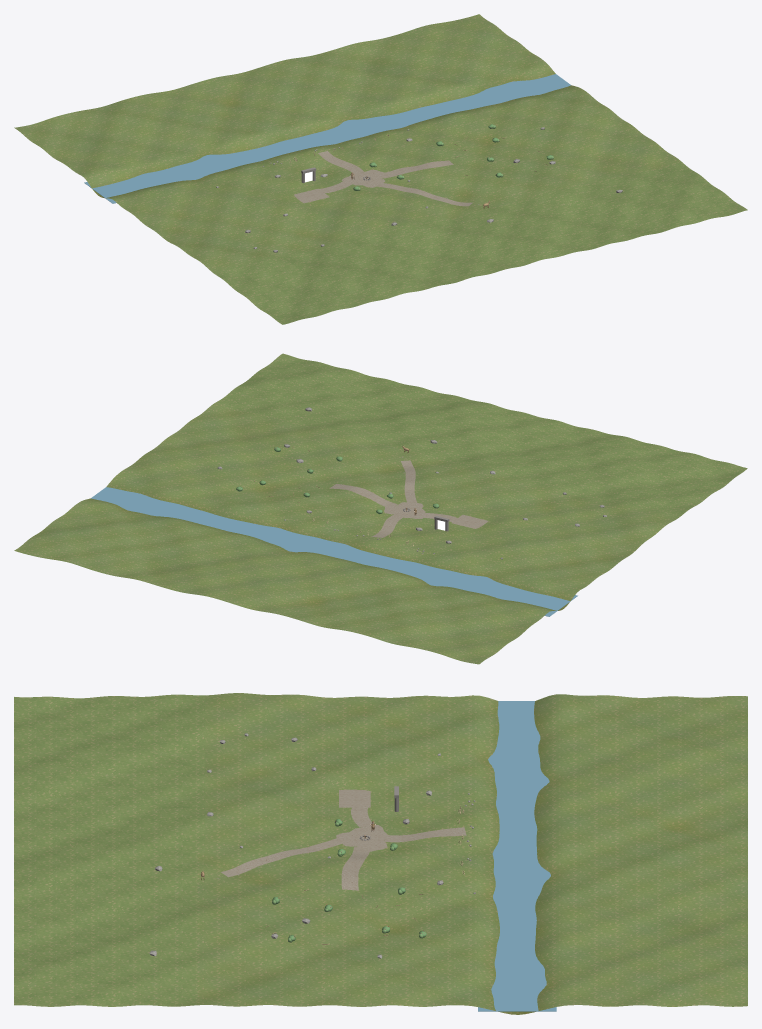
Rendered from paleo.glb.
3 views of the same model, one above another, from view 1: azimuth 30°, elevation 25°; view 2: azimuth 150°, elevation 25°; view 3: azimuth 270°, elevation 25° (orthographic). The views are drawn at different scales.
Visible parts, largest first — view 1: ground, river; view 2: ground, river; view 3: ground, river, path.002, camp_floor, path.001, path, cave_floor.
Boxes of the visible parts, left/top/right/bottom form: ground: left=14, top=14, right=747, bottom=324; river: left=84, top=74, right=570, bottom=203; ground: left=14, top=353, right=747, bottom=664; river: left=91, top=487, right=577, bottom=616; ground: left=14, top=693, right=747, bottom=1014; river: left=478, top=701, right=556, bottom=1011; path.002: left=221, top=836, right=350, bottom=877; camp_floor: left=336, top=825, right=387, bottom=851; path.001: left=341, top=847, right=370, bottom=890; path: left=382, top=827, right=466, bottom=842; cave_floor: left=339, top=789, right=370, bottom=807.
Bounding box in the file's own units: 140 × 9.92 × 140.
Materials: 15 (5 with a texture image).
